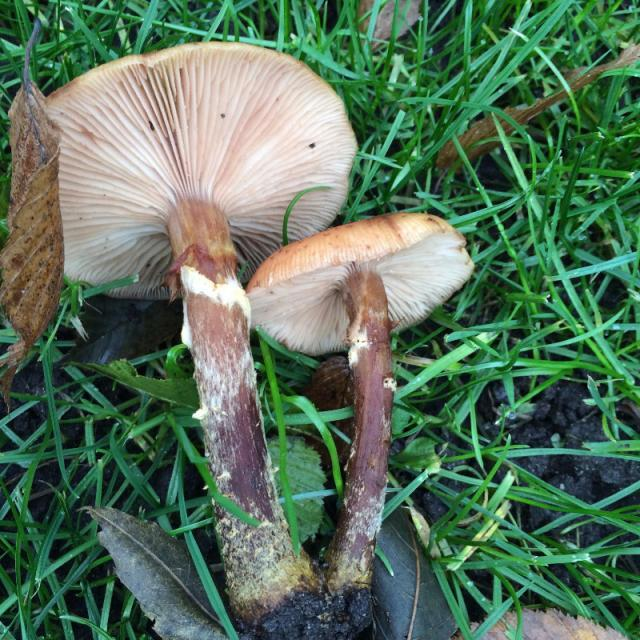Armillaria mellea: (34, 42, 358, 630), (249, 216, 475, 633)
